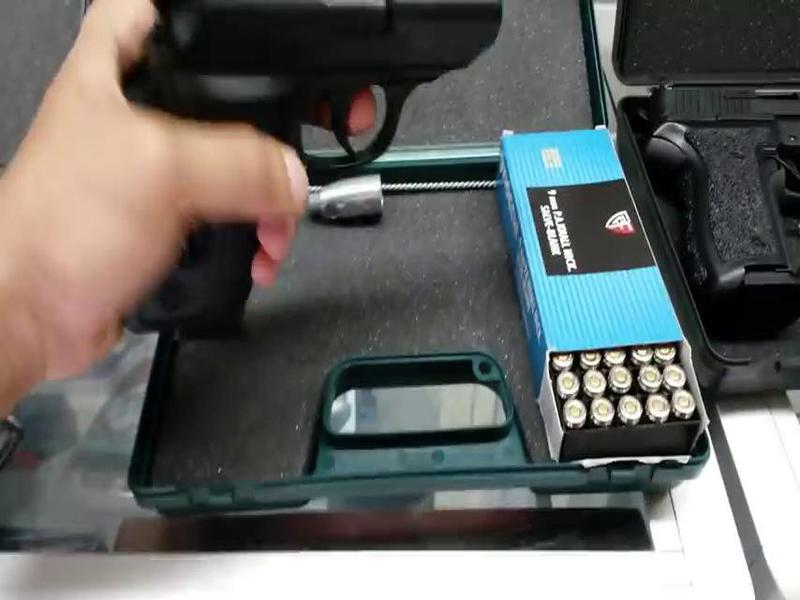Pistola: (134, 1, 526, 340)
